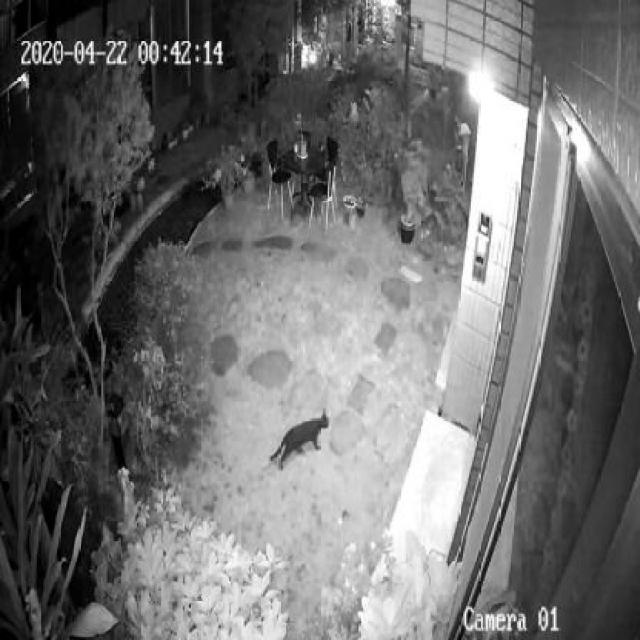animals: (269, 405, 334, 470)
